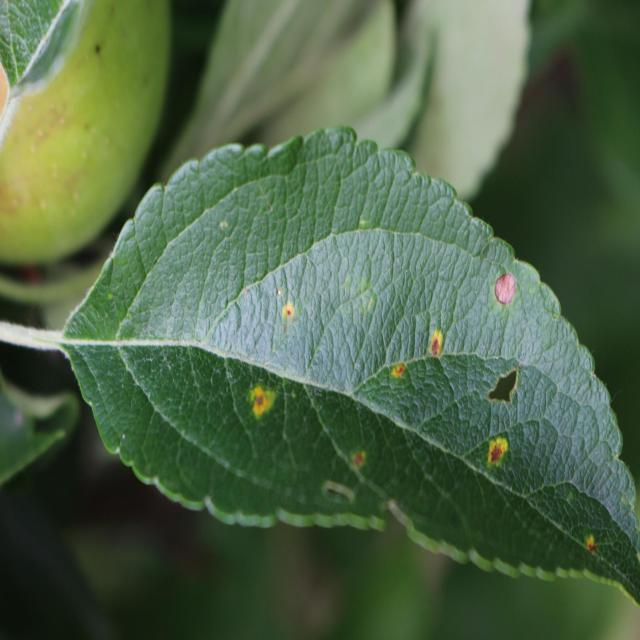Black Rot: (480, 364, 523, 406), (490, 258, 524, 310)
Rust: (479, 429, 517, 480), (247, 382, 280, 435), (427, 326, 452, 369), (348, 444, 377, 479), (277, 290, 300, 326), (576, 531, 604, 557), (389, 349, 409, 382)
